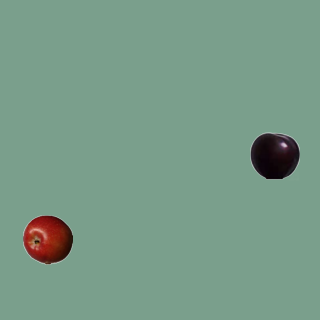Apple Braeburn: (22, 214, 72, 264)
Cherry Wax Black: (249, 130, 299, 180)
